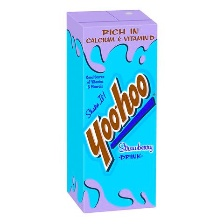carton: (57, 6, 162, 215)
